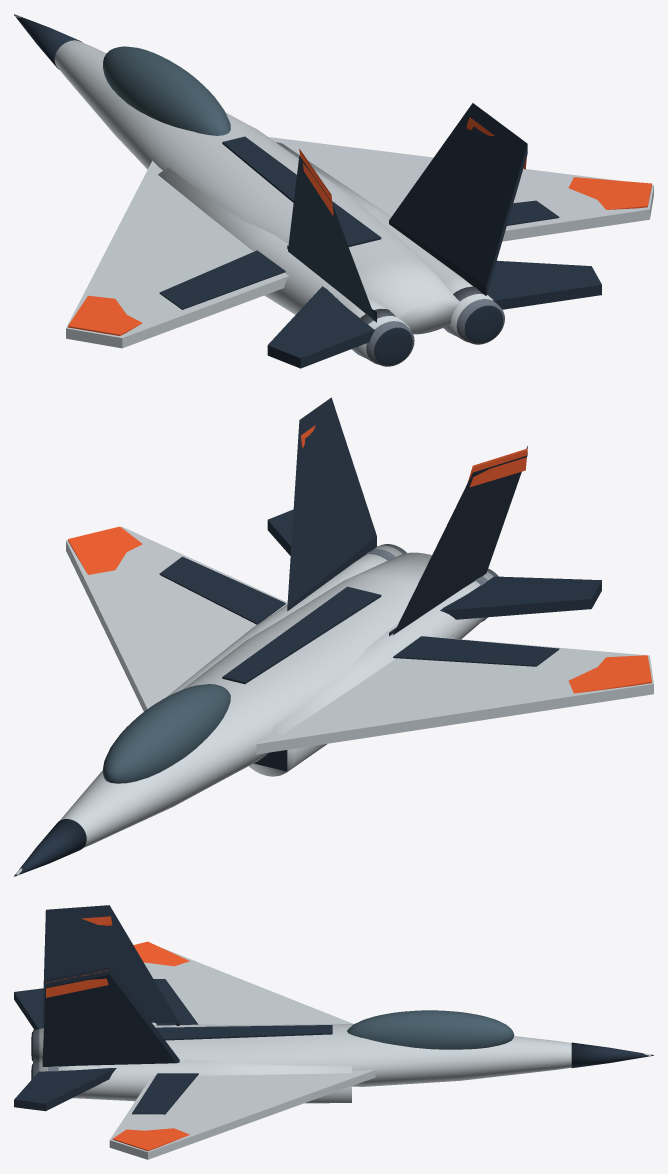
Rendered from fighter.glb.
The picture shows the model from 3 angles, top to bottom: view 1: azimuth 30°, elevation 25°; view 2: azimuth 150°, elevation 25°; view 3: azimuth 270°, elevation 25°; orthographic projection. The views are drawn at different scales.
Visible parts, largest first — view 1: Needle nose and blended fuselage, Cranked delta wing, Canted vertical stabilizer.001, Cranked delta wing.001, Panoramic dark canopy, Canted vertical stabilizer, Twin engine nacelle, Swept tailplane, Swept tailplane.001, Graphite flap, Dorsal contrast stripe, Twin engine nacelle.001 (+9 smaller); view 2: Needle nose and blended fuselage, Cranked delta wing, Cranked delta wing.001, Canted vertical stabilizer.001, Canted vertical stabilizer, Panoramic dark canopy, Twin engine nacelle, Swept tailplane, Dorsal contrast stripe, Graphite flap.001, Graphite flap, Orange wing recognition panel.001 (+5 smaller); view 3: Needle nose and blended fuselage, Cranked delta wing.001, Canted vertical stabilizer.001, Canted vertical stabilizer, Cranked delta wing, Panoramic dark canopy, Twin engine nacelle.001, Swept tailplane.001, Dorsal contrast stripe, Graphite flap.001, Graphite radome, Orange wing recognition panel.001 (+4 smaller).
Boxes of the visible parts, x1,y1,x2,y2 form: Needle nose and blended fuselage: (15, 15, 460, 334); Cranked delta wing: (66, 161, 288, 348); Canted vertical stabilizer.001: (389, 103, 527, 295); Cranked delta wing.001: (268, 137, 653, 241); Panoramic dark canopy: (103, 46, 230, 135); Canted vertical stabilizer: (287, 155, 376, 322); Twin engine nacelle: (158, 167, 410, 364); Swept tailplane: (267, 286, 375, 368); Swept tailplane.001: (487, 260, 601, 309); Graphite flap: (159, 250, 285, 309); Dorsal contrast stripe: (222, 136, 381, 246); Twin engine nacelle.001: (276, 142, 493, 342); Needle nose and blended fuselage: (16, 552, 431, 876); Cranked delta wing: (256, 636, 653, 754); Cranked delta wing.001: (66, 527, 287, 711); Canted vertical stabilizer.001: (287, 397, 376, 611); Canted vertical stabilizer: (389, 446, 527, 636); Panoramic dark canopy: (103, 684, 230, 783); Twin engine nacelle: (249, 571, 493, 776); Swept tailplane: (440, 576, 601, 619); Dorsal contrast stripe: (222, 586, 381, 684); Graphite flap.001: (159, 556, 285, 624); Graphite flap: (393, 636, 559, 666); Orange wing recognition panel.001: (68, 526, 142, 574); Needle nose and blended fuselage: (165, 1024, 651, 1086); Cranked delta wing.001: (109, 1069, 375, 1159); Canted vertical stabilizer.001: (42, 967, 179, 1066); Canted vertical stabilizer: (42, 905, 179, 1025); Cranked delta wing: (144, 947, 353, 1025); Panoramic dark canopy: (347, 1010, 514, 1049); Twin engine nacelle.001: (39, 1060, 351, 1103); Swept tailplane.001: (14, 1068, 116, 1111); Dorsal contrast stripe: (156, 1025, 332, 1040); Graphite flap.001: (132, 1073, 198, 1114); Graphite radome: (571, 1042, 653, 1068); Orange wing recognition panel.001: (112, 1128, 189, 1151).
Bounding box in the file's own units: 15.6 × 5.18 × 20.08.
